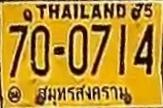0: (30, 24, 50, 76), (68, 24, 87, 74)
1: (118, 24, 126, 74)
4: (134, 23, 152, 74)
7: (8, 25, 28, 76), (90, 24, 110, 74)
SKM: (36, 82, 132, 103)
